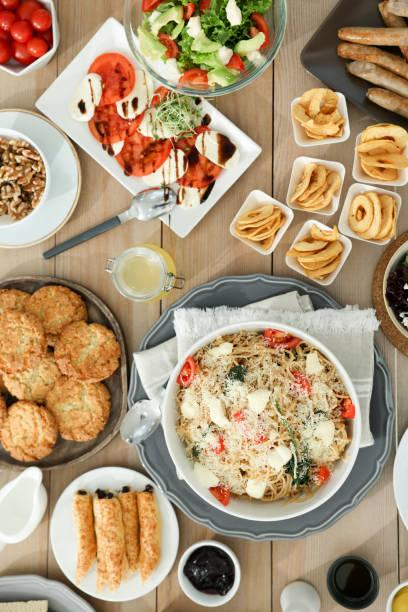Braised Crucian Carp: (35, 17, 259, 236), (160, 319, 356, 520), (0, 271, 124, 461), (49, 465, 177, 600)
